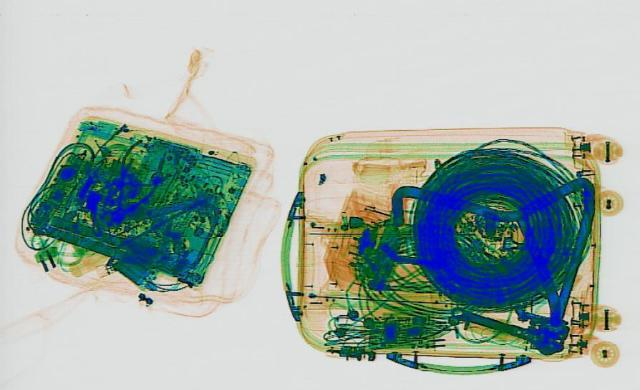Pliers: (88, 157, 168, 233)
Wrench: (436, 297, 576, 355)
